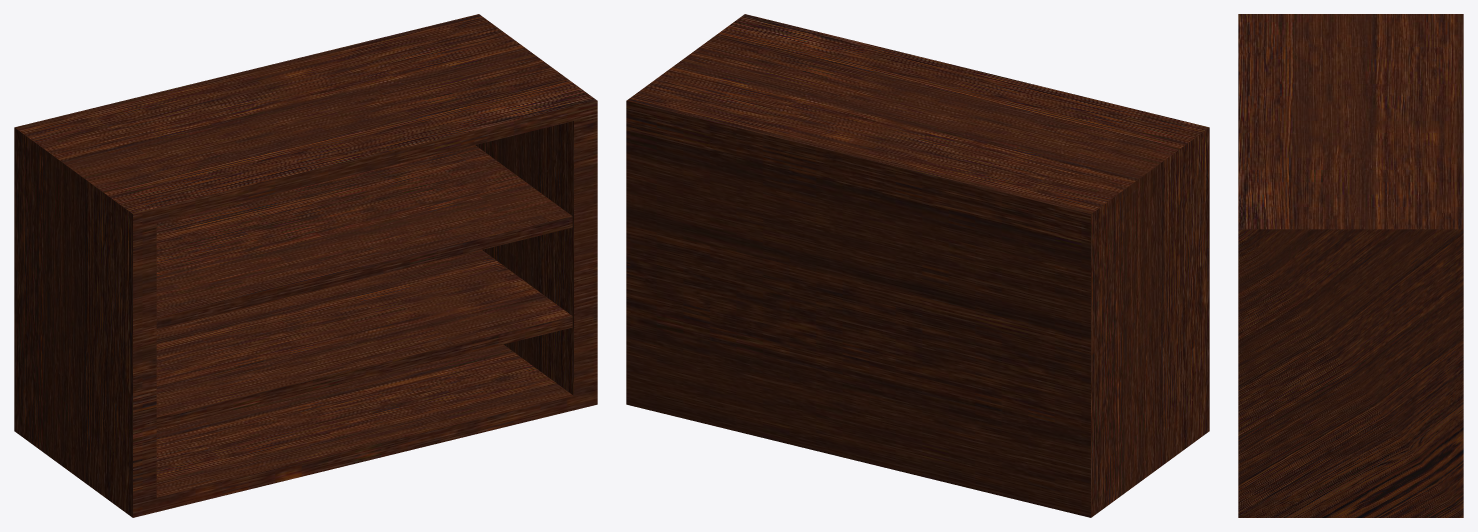
Rendered from shelves.fbx.
3 renders of one model, left to right at view 1: azimuth 30°, elevation 25°; view 2: azimuth 150°, elevation 25°; view 3: azimuth 270°, elevation 25°, orthographic. The views are drawn at different scales.
Visible parts, largest first — view 1: shelves; view 2: shelves; view 3: shelves.
Boxes of the visible parts, x1=… form: shelves: x1=14, y1=14, x2=597, y2=517; shelves: x1=626, y1=14, x2=1209, y2=517; shelves: x1=1238, y1=14, x2=1463, y2=517.
Size of the model in its own units: 1.28 by 0.7995 by 0.5656.
Materials: 1 (1 with a texture image).
